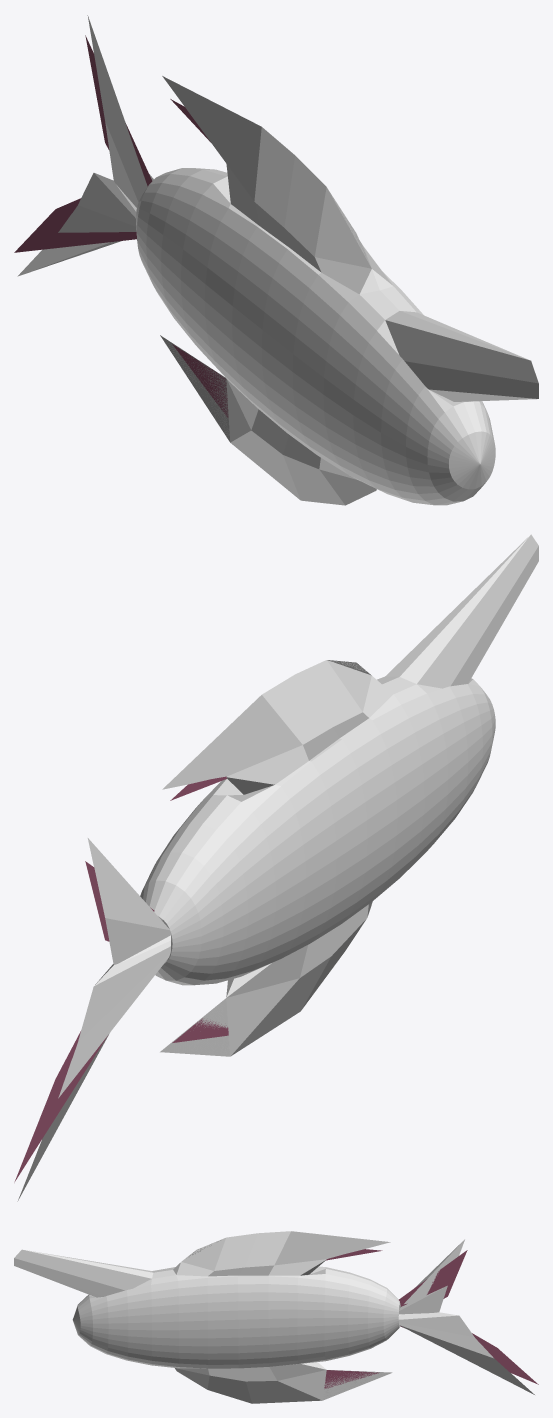
The model's file is Swordfish.fbx.
The picture shows the model from 3 angles, top to bottom: view 1: azimuth 30°, elevation 25°; view 2: azimuth 150°, elevation 25°; view 3: azimuth 270°, elevation 25°; orthographic projection. The views are drawn at different scales.
Visible parts, largest first — view 1: Swordfish Outline, Swordfish; view 2: Swordfish Outline, Swordfish; view 3: Swordfish Outline, Swordfish.
Part boxes in pixels (x1,y1,x2,y2): Swordfish Outline: (17,15,538,505); Swordfish: (14,35,228,417); Swordfish Outline: (17,534,538,1201); Swordfish: (14,776,228,1182); Swordfish Outline: (14,1231,534,1403); Swordfish: (324,1249,538,1388).
Size of the model in its own units: 14.96 by 46.51 by 128.
